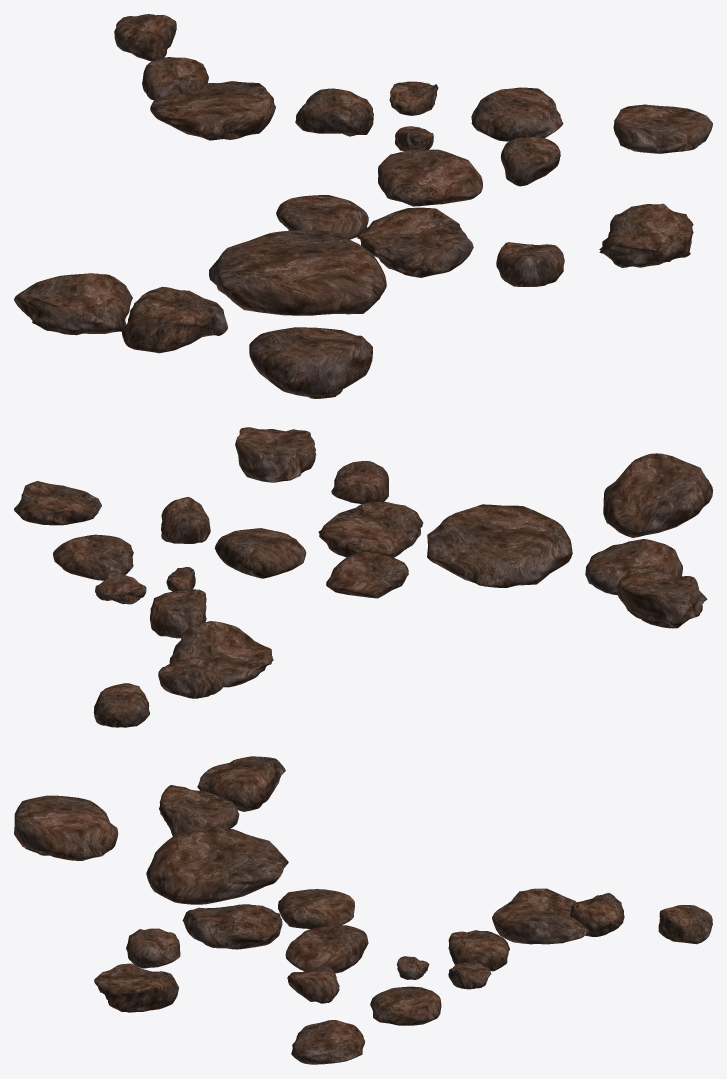
The model's file is shitou_2.fbx.
The picture shows the model from 3 angles, top to bottom: view 1: azimuth 30°, elevation 25°; view 2: azimuth 150°, elevation 25°; view 3: azimuth 270°, elevation 25°; orthographic projection. The views are drawn at different scales.
Parts seen in each view (by area): view 1: jiawan1:polySurface1; view 2: jiawan1:polySurface1; view 3: jiawan1:polySurface1.
Part boxes in pixels (x1=…): jiawan1:polySurface1: x1=14, y1=14, x2=712, y2=398; jiawan1:polySurface1: x1=14, y1=427, x2=712, y2=727; jiawan1:polySurface1: x1=14, y1=756, x2=712, y2=1064.
Bounding box in the file's own units: 1076 × 82.47 × 1114.
Materials: 1 (1 with a texture image).
